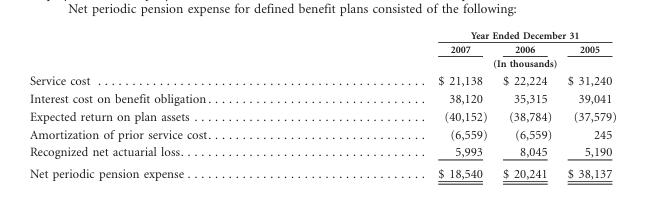table: (28, 29, 615, 180)
table column: (28, 29, 323, 180), (323, 29, 494, 180), (494, 29, 559, 180), (559, 29, 615, 180)
table column header: (28, 29, 615, 71)
table row: (28, 142, 615, 162), (28, 71, 615, 89), (28, 89, 615, 107), (28, 107, 615, 125), (28, 162, 615, 180), (28, 125, 615, 142), (28, 41, 615, 56), (28, 56, 615, 71), (28, 29, 615, 41)
table spanning cell: (323, 56, 615, 71), (323, 29, 615, 41)
